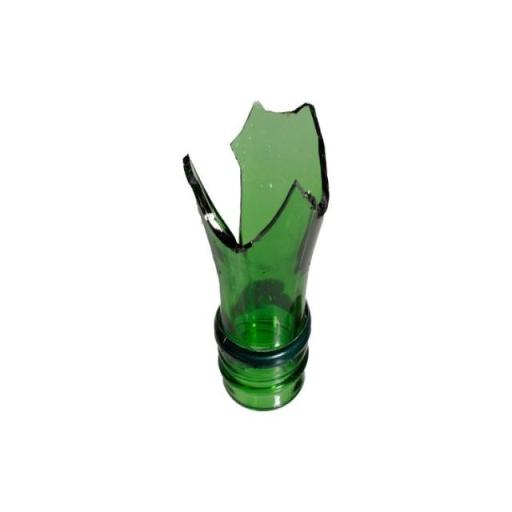glass: (152, 78, 346, 428)
